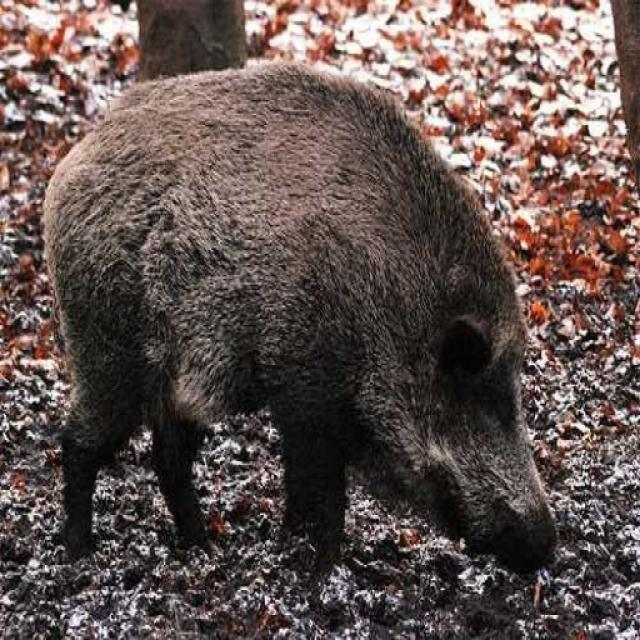pig: (36, 52, 561, 587)
